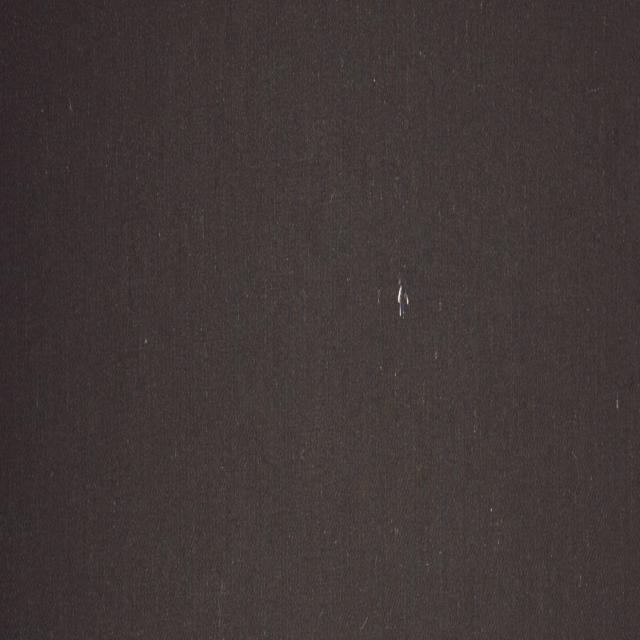Knot: (398, 277, 410, 320)
